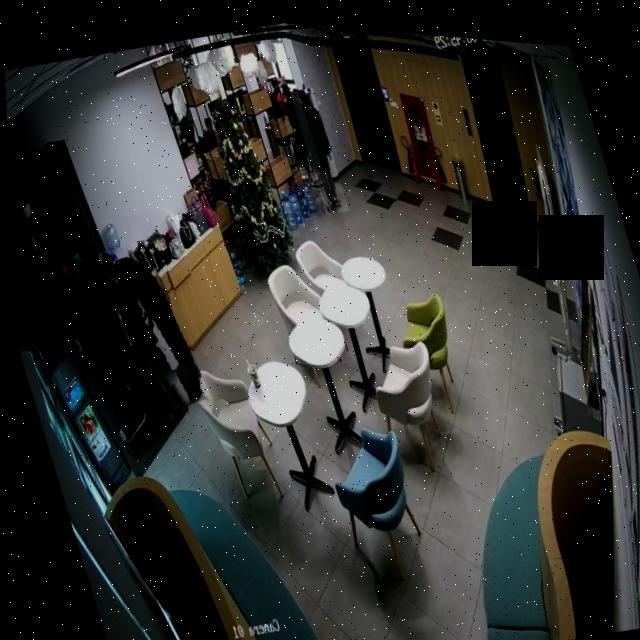person: (97, 233, 205, 417), (287, 81, 346, 210), (273, 75, 323, 182), (192, 112, 223, 156)
